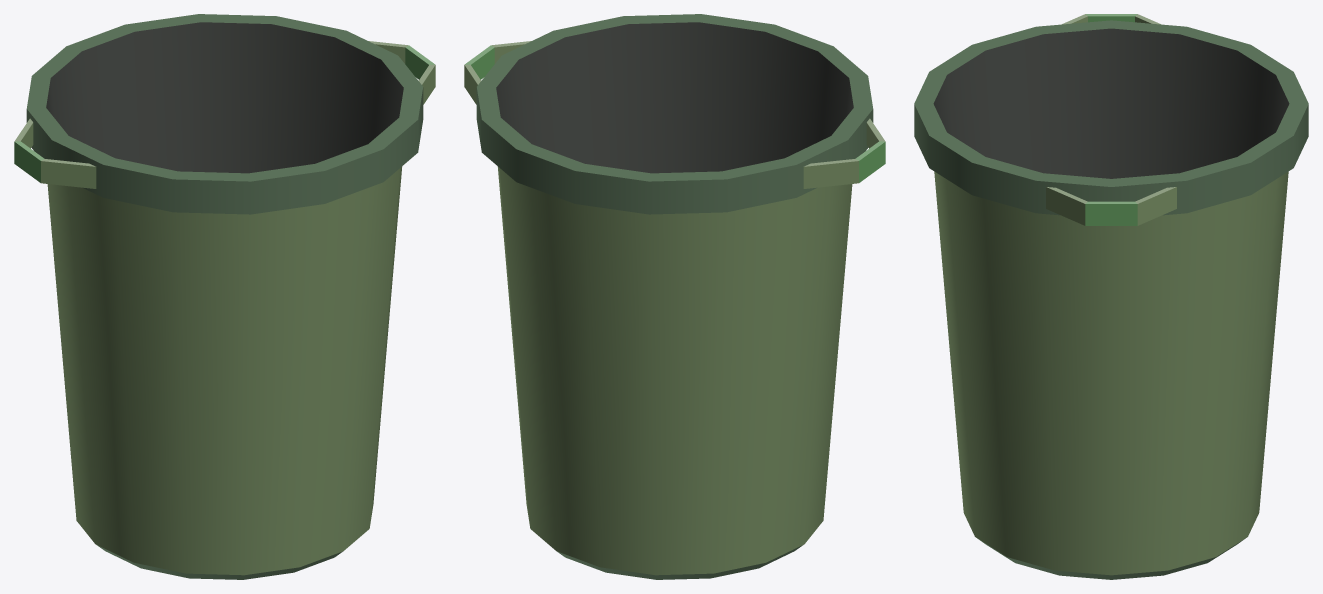
The model's file is clutter_trashcan.fbx.
3 renders of one model, left to right at view 1: azimuth 30°, elevation 25°; view 2: azimuth 150°, elevation 25°; view 3: azimuth 270°, elevation 25°, orthographic.
Parts seen in each view (by area): view 1: Cylinder02; view 2: Cylinder02; view 3: Cylinder02.
Part boxes in pixels (<box>): Cylinder02: <box>14,14,435,579</box>; Cylinder02: <box>464,14,885,579</box>; Cylinder02: <box>914,14,1308,579</box>.
Bounding box in the file's own units: 1530 × 1343 × 1572.
